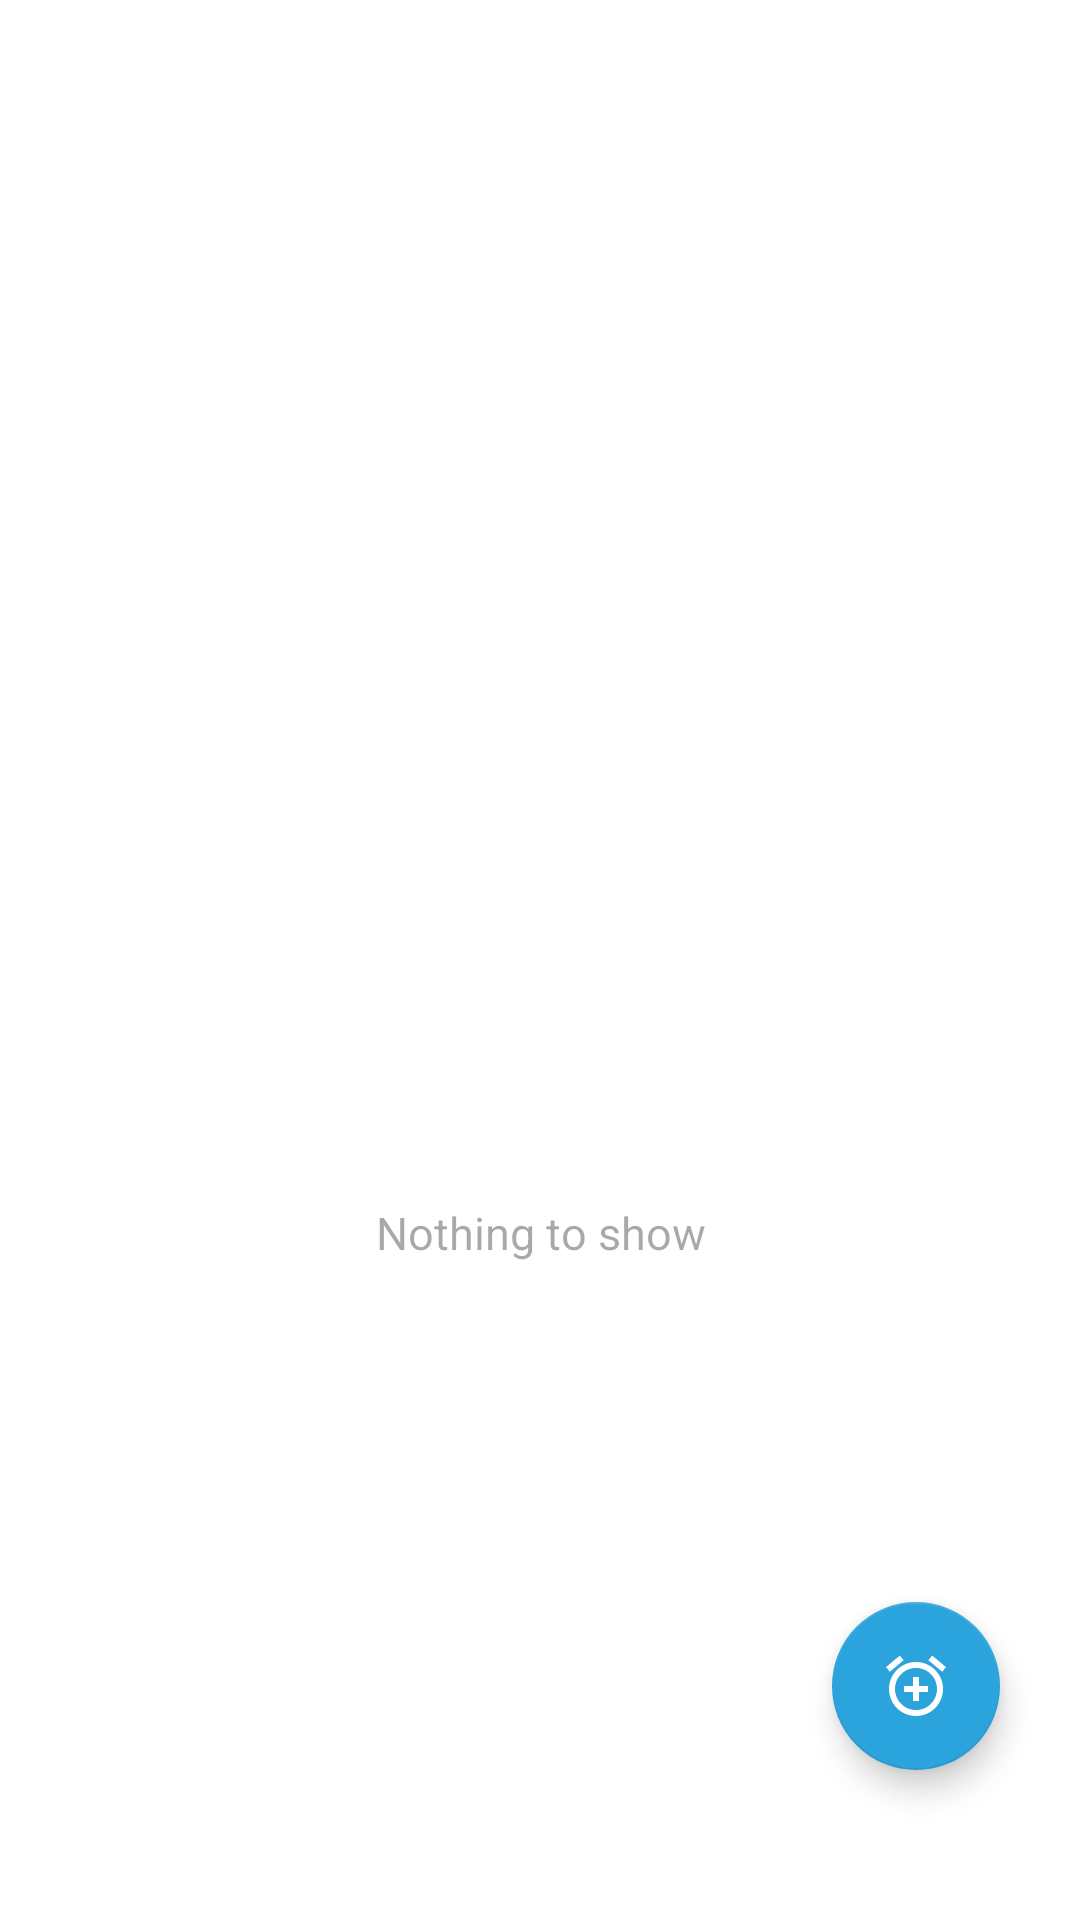

Where to tap for icons on this 1080x1920 app screen, as (x,y):
add alarm: (916,1686)
